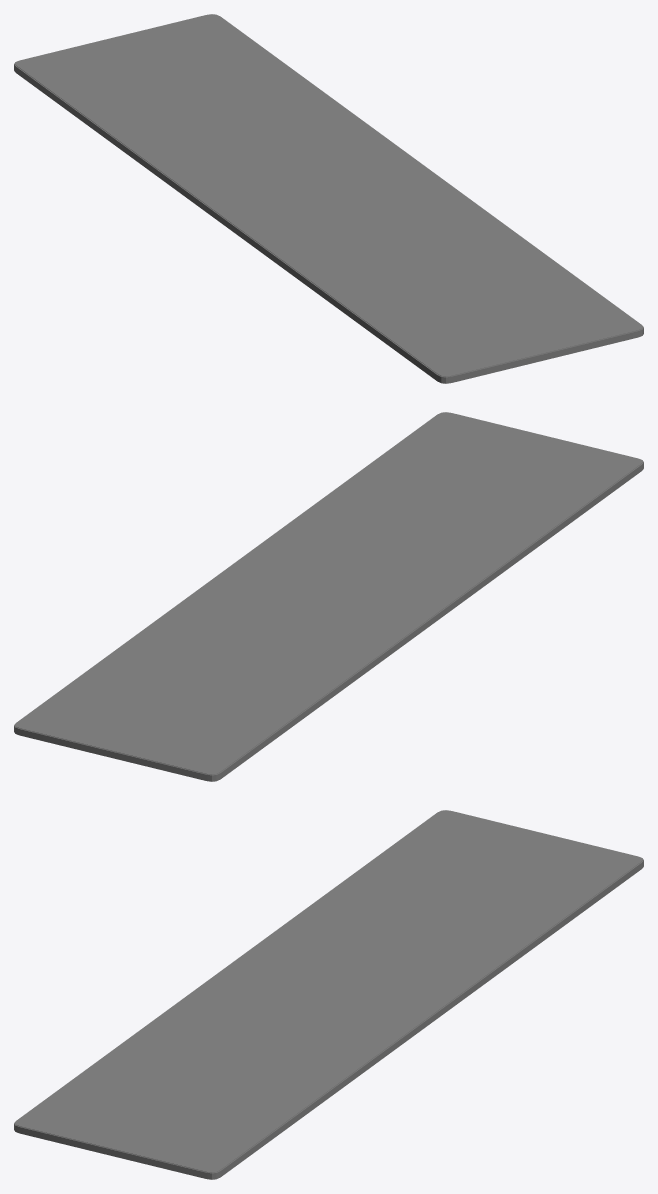
The model's file is ground_platform_02.fbx.
The picture shows the model from 3 angles, top to bottom: view 1: azimuth 30°, elevation 25°; view 2: azimuth 150°, elevation 25°; view 3: azimuth 330°, elevation 25°; orthographic projection.
Parts seen in each view (by area): view 1: ground_platform_02; view 2: ground_platform_02; view 3: ground_platform_02.
Part boxes in pixels (x1,y1,x2,y2): ground_platform_02: (14,14,643,383); ground_platform_02: (14,412,643,781); ground_platform_02: (14,810,643,1179).
Bounding box in the file's own units: 400 × 12.61 × 1461.
